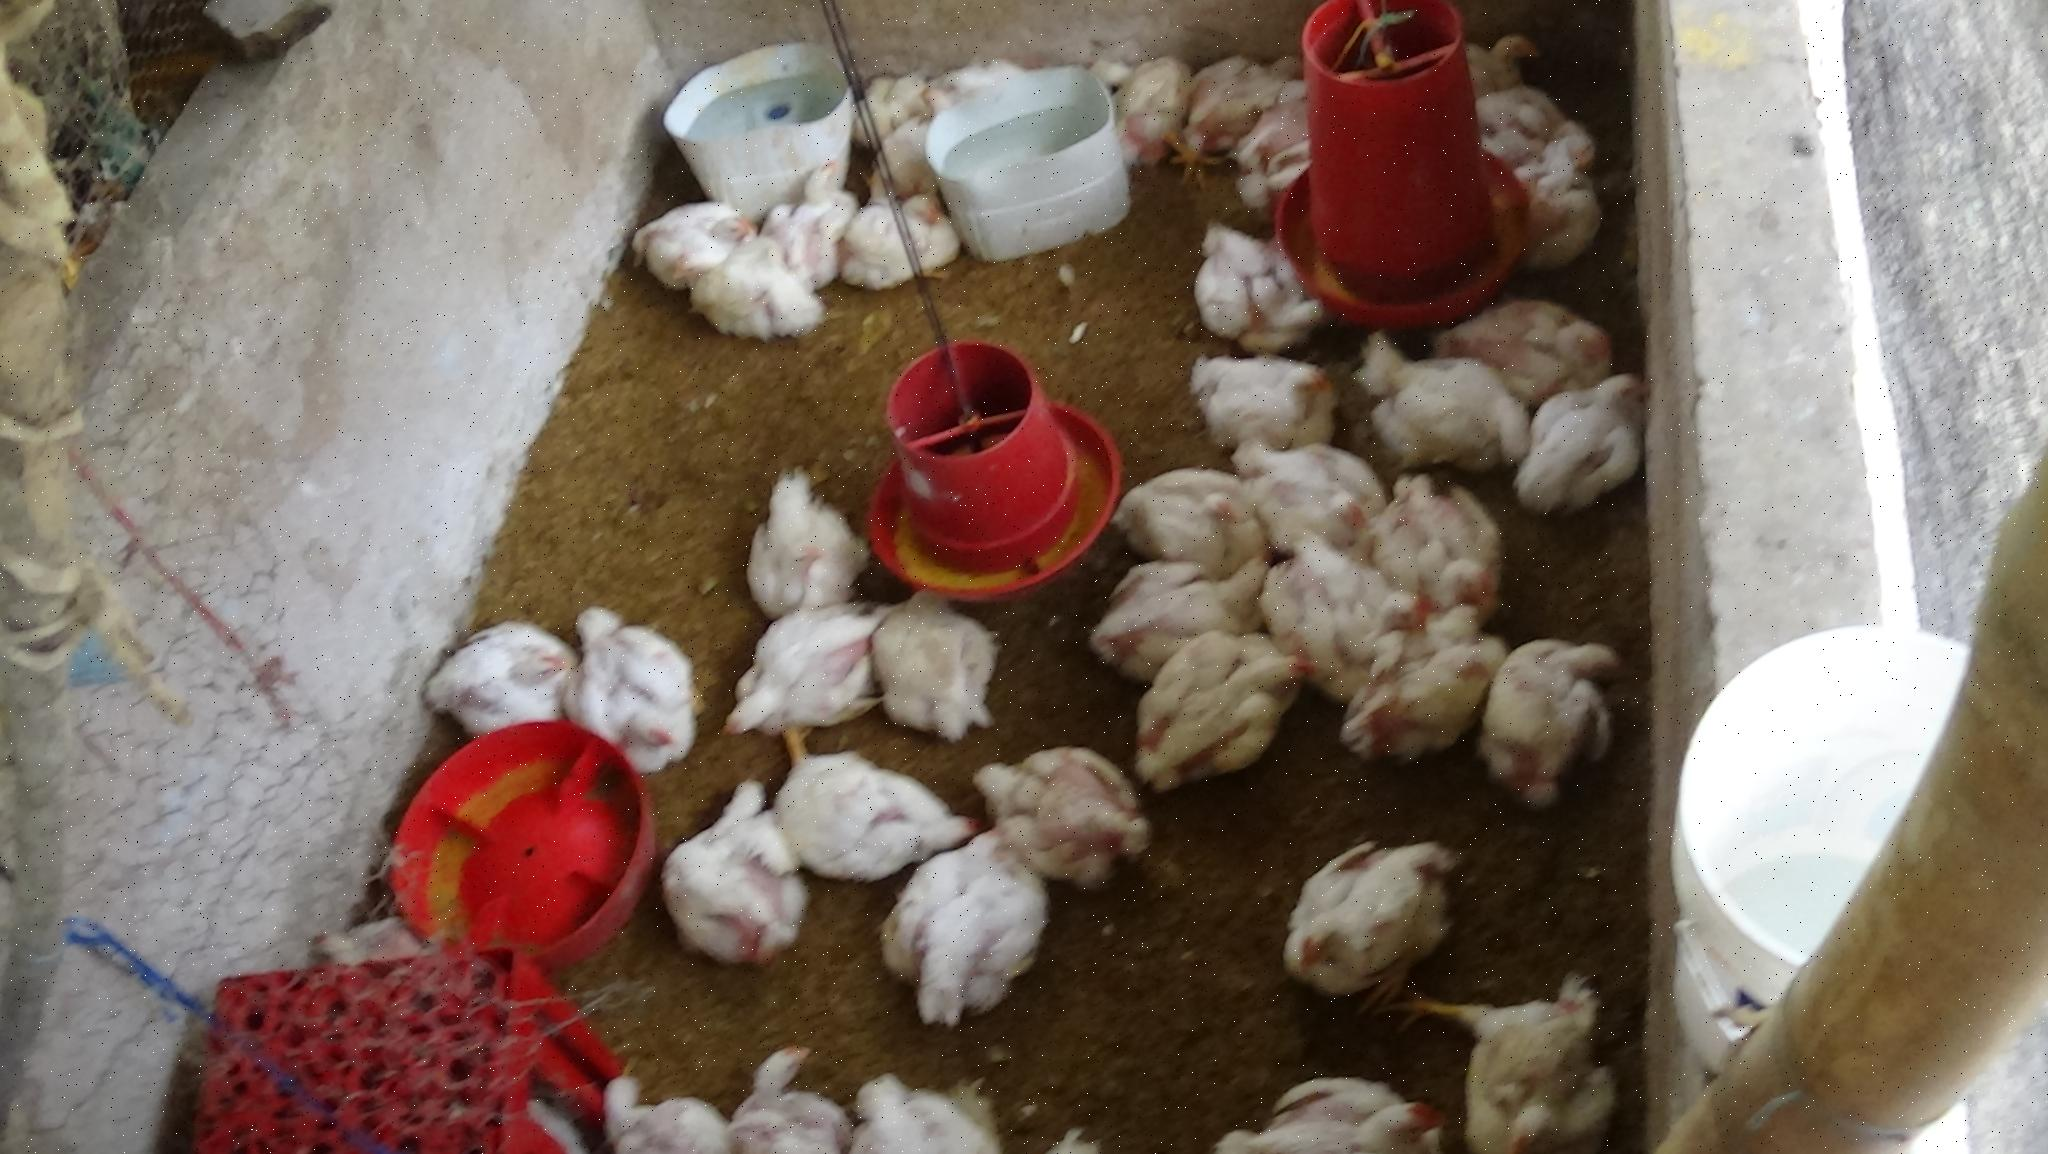Pollos: (1447, 979, 1656, 1154), (1266, 829, 1461, 1009), (1481, 611, 1653, 798), (1131, 630, 1319, 794), (781, 732, 975, 877), (641, 792, 798, 972), (897, 839, 1044, 1030), (567, 591, 710, 768), (418, 578, 574, 737), (1362, 319, 1518, 471), (976, 749, 1155, 881), (710, 601, 882, 737), (1083, 562, 1266, 678), (879, 587, 1021, 730), (1276, 533, 1426, 666), (1352, 630, 1515, 752), (1234, 422, 1383, 547), (1207, 1082, 1447, 1154), (744, 464, 868, 604), (1521, 379, 1660, 502), (1169, 343, 1336, 443), (1452, 287, 1620, 383), (1196, 213, 1317, 345), (1107, 457, 1253, 557), (717, 1039, 843, 1154), (288, 901, 429, 1001), (594, 1046, 719, 1154), (1402, 471, 1508, 597), (852, 1070, 1009, 1154), (708, 241, 831, 339), (852, 187, 959, 290), (1191, 46, 1311, 129), (637, 198, 757, 274), (1114, 46, 1186, 159), (769, 158, 852, 243), (1530, 177, 1609, 267), (1234, 100, 1312, 175), (1476, 86, 1573, 145), (1466, 30, 1556, 84), (1533, 129, 1596, 180), (914, 82, 964, 115)
